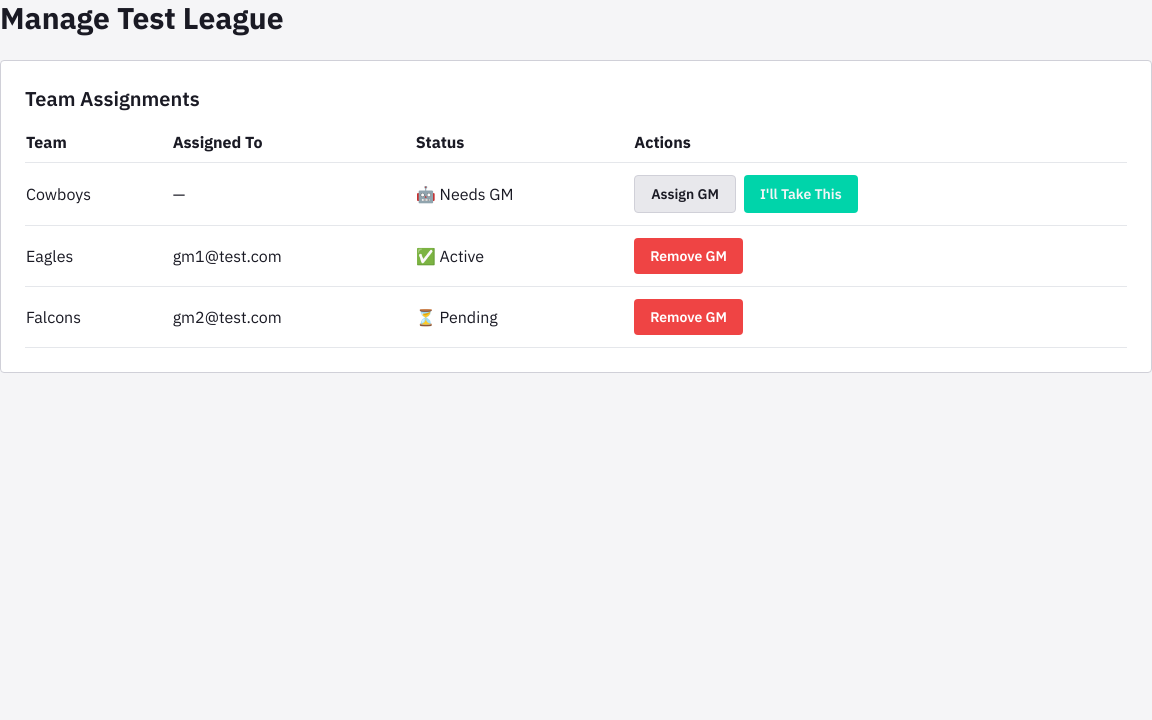
Scenario: LeagueManagePage › Assign GM Action › opens assign modal when clicking assign button
The width and height of the screenshot is (1152, 720).
Expected: the text "Cowboys" is shown, [25, 162, 172, 226]
Step 1. Click the button "Assign GM" → (685, 194), box [634, 175, 736, 213]
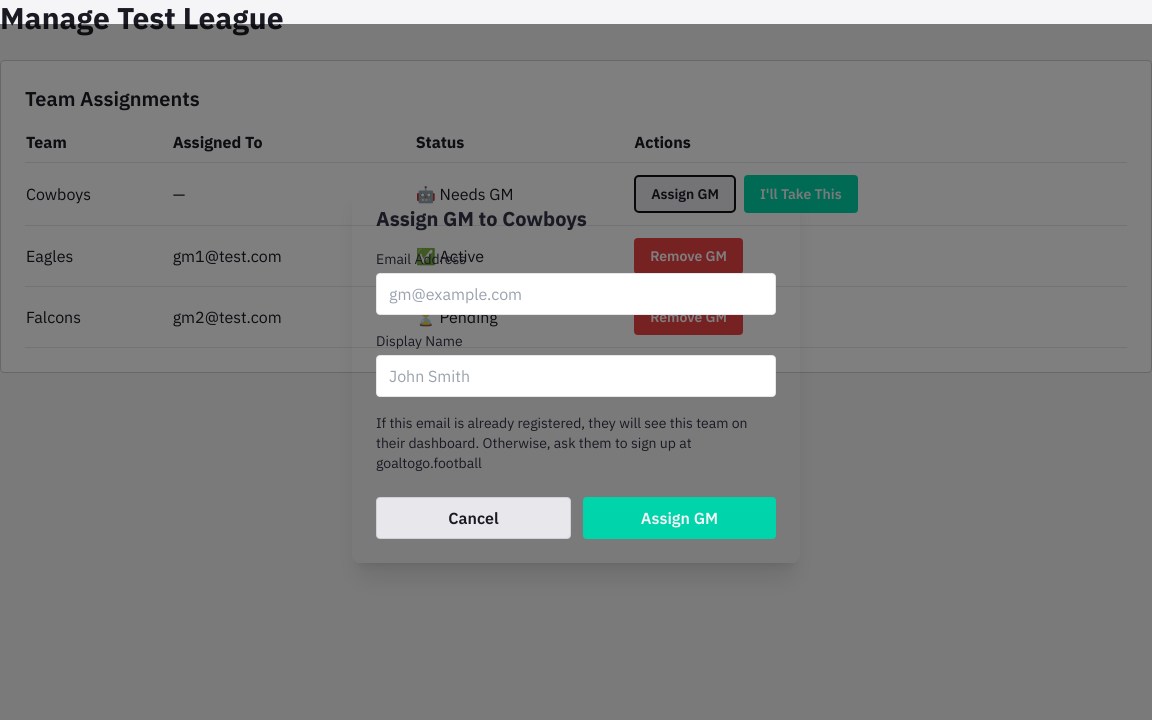
Expected: the dialog is shown, [352, 181, 800, 563]
